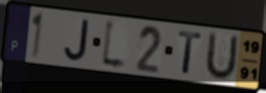1: (30, 11, 48, 62)
2: (134, 24, 165, 76)
J: (63, 18, 90, 63)
L: (99, 17, 130, 74)
T: (177, 30, 203, 77)
U: (203, 30, 241, 82)
